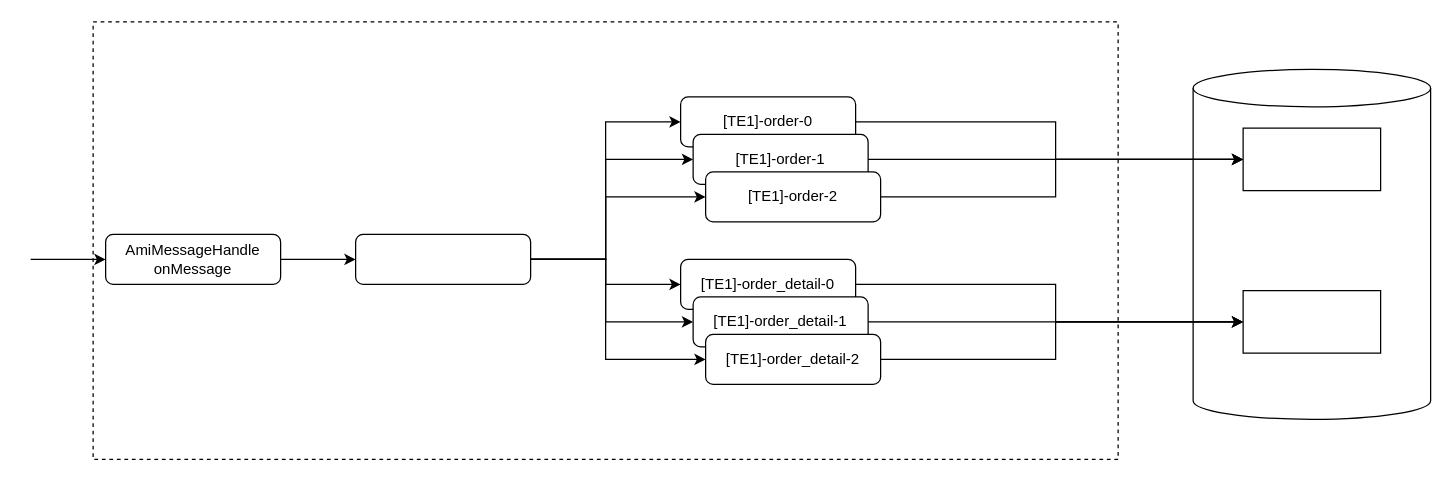
Some shapes in this 1453 by 481 pixel diagram are drawn without their labels. Each missing label, with the centre of its shape:
DataDispatcher: the point at 442,258
order_detail表: the point at 1311,321
order表: the point at 1311,159
